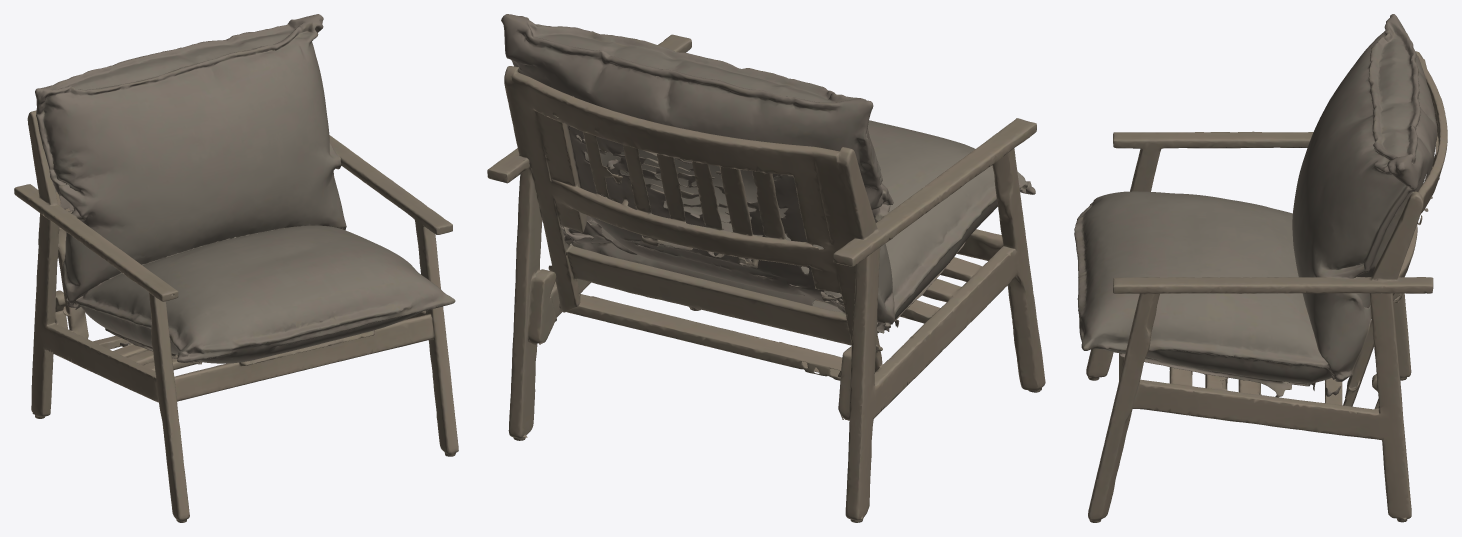
Rendered from modern_lounge_armchair_pcjy64.glb.
3 renders of one model, left to right at view 1: azimuth 30°, elevation 25°; view 2: azimuth 150°, elevation 25°; view 3: azimuth 270°, elevation 25°, orthographic. The views are drawn at different scales.
Visible parts, largest first — view 1: world; view 2: world; view 3: world.
Part boxes in pixels (box(x1,y1,x2,y2)): world: box(14, 14, 458, 522); world: box(487, 14, 1045, 522); world: box(1074, 14, 1447, 522).
Bounding box in the file's own units: 0.9199 × 1 × 0.9321.
Materials: 1 (1 with a texture image).
